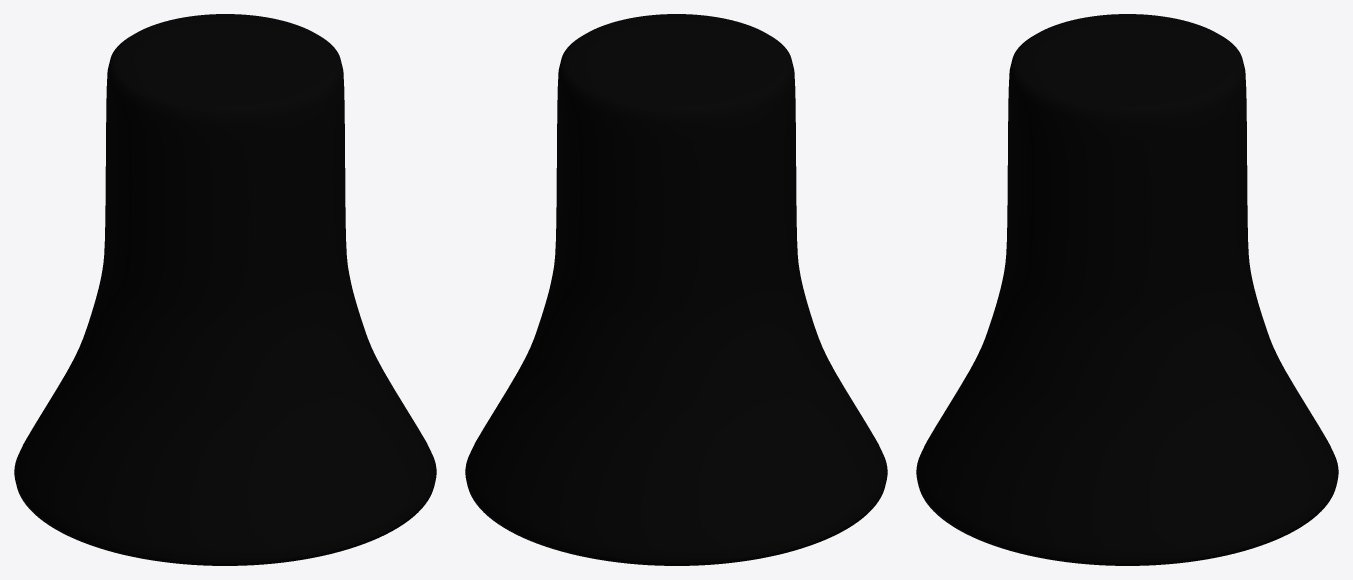
The model's file is Pawn_Column.gltf.
3 renders of one model, left to right at view 1: azimuth 30°, elevation 25°; view 2: azimuth 150°, elevation 25°; view 3: azimuth 270°, elevation 25°, orthographic.
Visible parts, largest first — view 1: Column; view 2: Column; view 3: Column.
Part boxes in pixels (left/top/right/bottom): Column: left=14, top=14, right=436, bottom=565; Column: left=465, top=14, right=887, bottom=565; Column: left=916, top=14, right=1338, bottom=565.
Bounding box in the file's own units: 1.44 × 1.58 × 1.44.
Materials: 1 (1 with a texture image).
